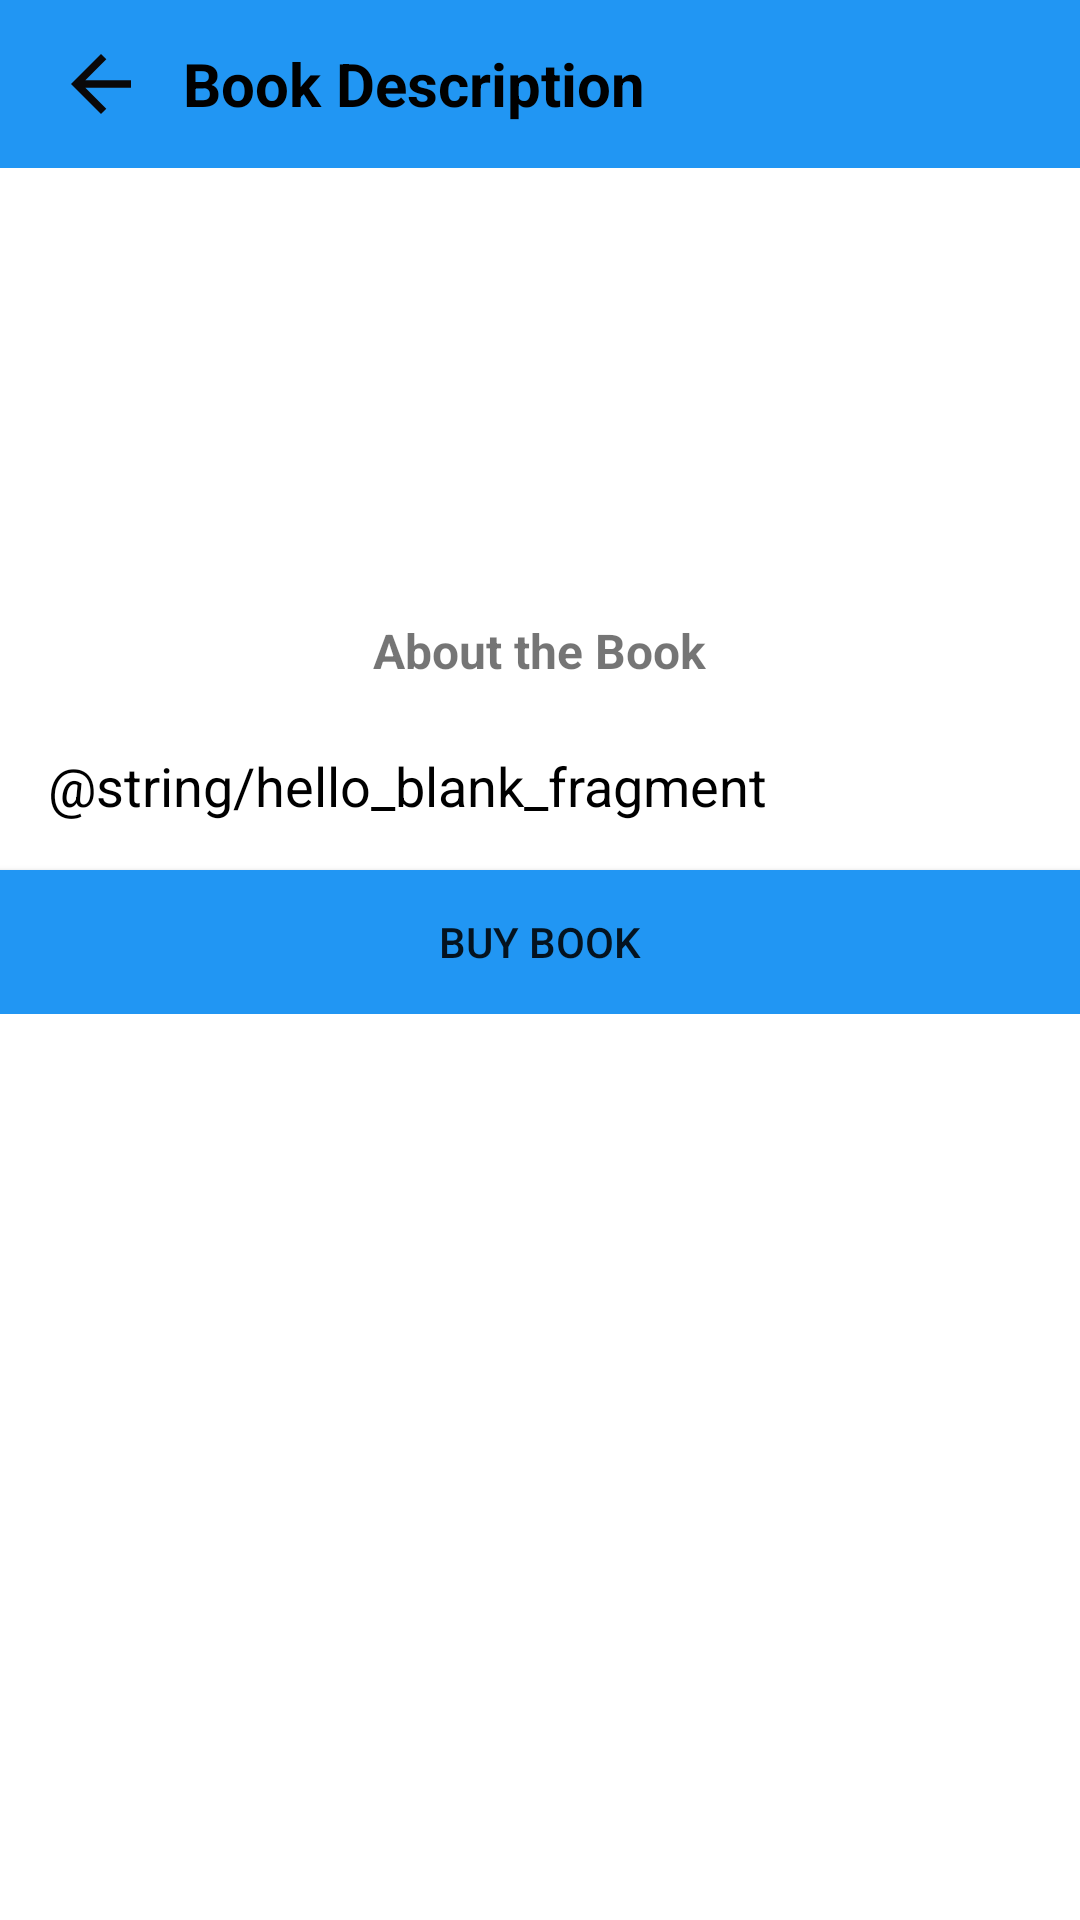

Screen size 1080 x 1920. Icon name, then its box in pixels as (x1, y1, x2, y2):
back arrow: (71, 54, 131, 114)
